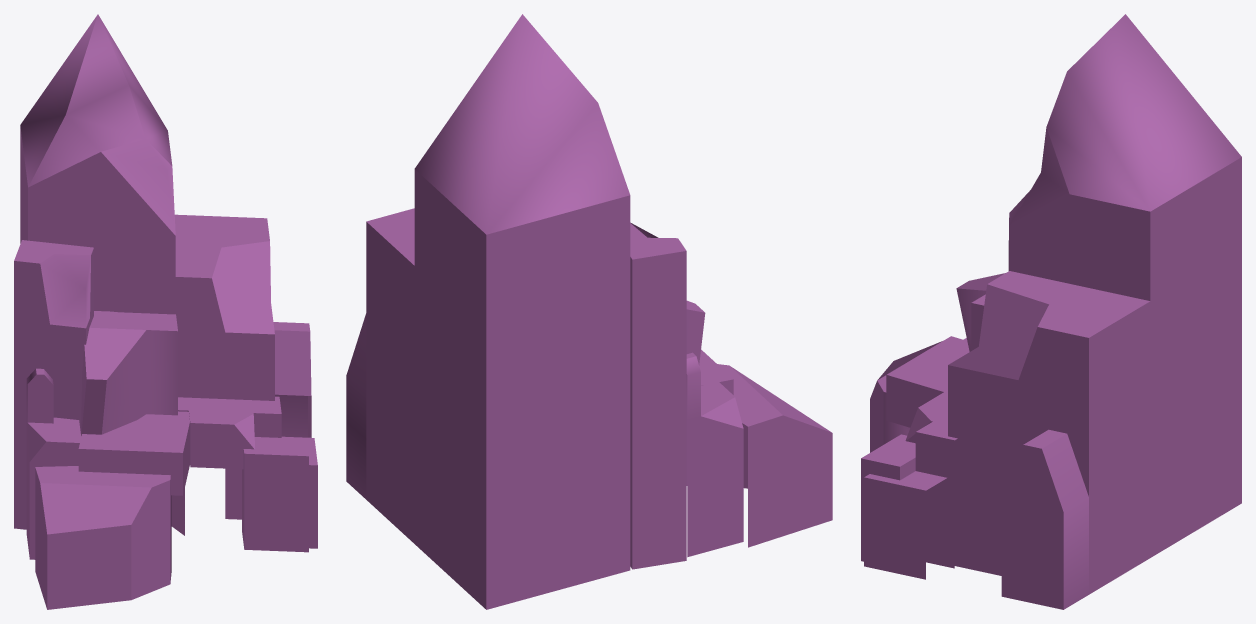
Rendered from iri3.fbx.
3 renders of one model, left to right at view 1: azimuth 30°, elevation 25°; view 2: azimuth 150°, elevation 25°; view 3: azimuth 270°, elevation 25°, orthographic. The views are drawn at different scales.
Visible parts, largest first — view 1: polySurface118; view 2: polySurface118; view 3: polySurface118.
Boxes of the visible parts, x1,y1,x2,y2 form: polySurface118: (14,14,317,609); polySurface118: (346,14,832,609); polySurface118: (861,14,1241,609).
Bounding box in the file's own units: 350 × 470 × 318.
